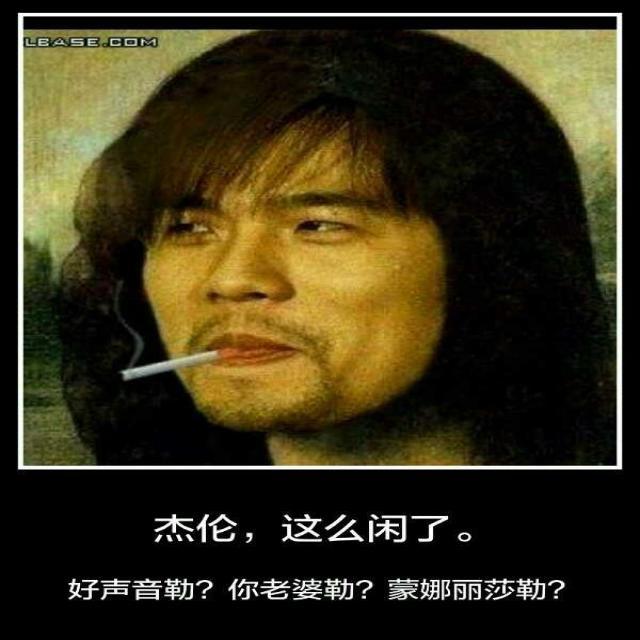Smooking: (94, 348, 231, 390)
